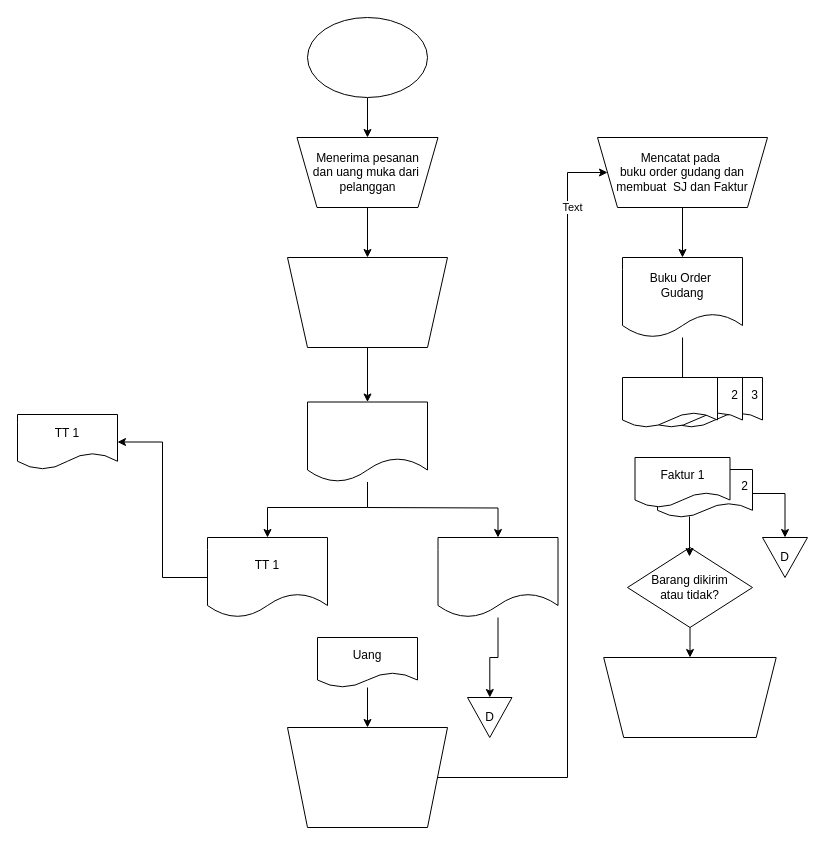
Some shapes in this 825 by 845 pixel diagram are drawn without their labels. The shapes that lost their labels are listed below. From the top down, each one's centre as x and y in pixels, then its label:
pixel 367 57: Start
pixel 367 302: Mencatat pesanan, menghitung jumlah uang dan membuat tanda terima
pixel 670 402: SJ 1
pixel 367 441: Buku Order Penjualan
pixel 497 577: TT 2
pixel 689 697: Memberikan surat jalan dan faktur #1 ke mandor
pixel 367 777: Menginformasikan permintaan persediaan ke kepala gudang
